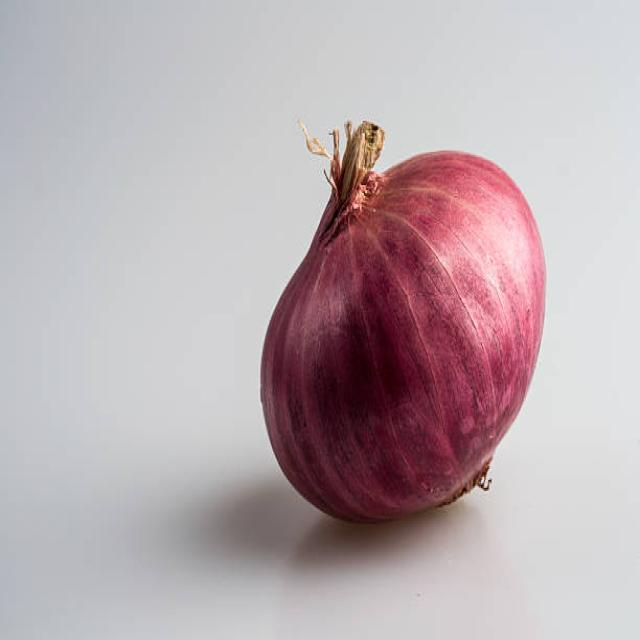onion: (250, 148, 549, 529)
